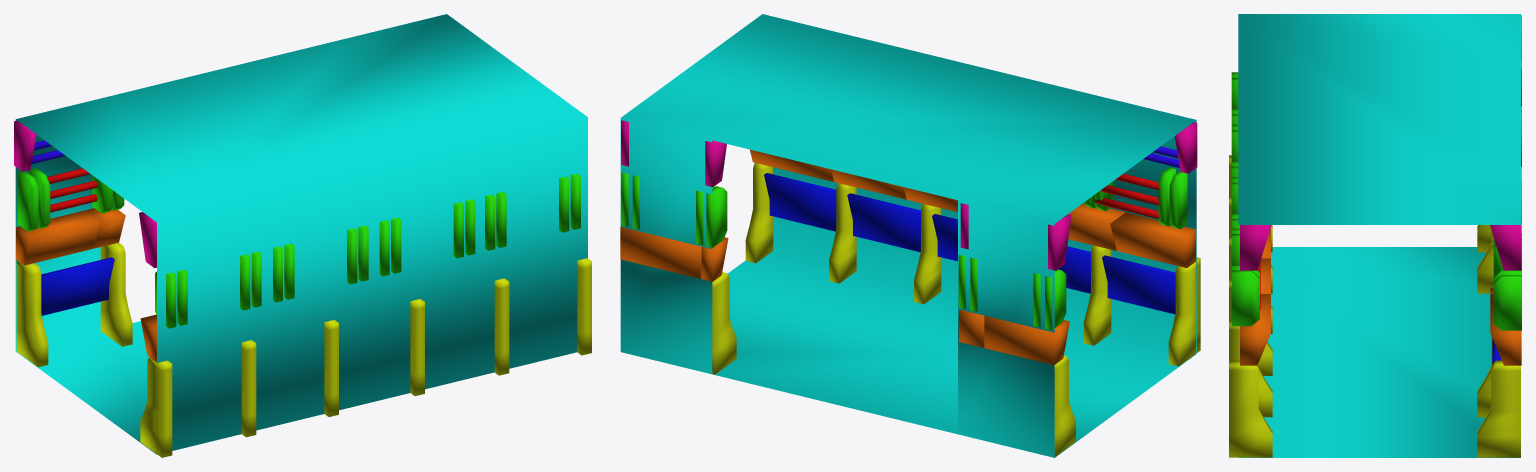
The model's file is road_jung.fbx.
3 views of the same model, side by side, from view 1: azimuth 30°, elevation 25°; view 2: azimuth 150°, elevation 25°; view 3: azimuth 270°, elevation 25° (orthographic).
Visible parts, largest first — view 1: Box004; view 2: Box004; view 3: Box004.
Boxes of the visible parts, x1,y1,x2,y2 form: Box004: (14, 14, 591, 457); Box004: (620, 14, 1200, 457); Box004: (1229, 14, 1521, 457).
Size of the model in its own units: 116 by 59.29 by 67.51.
